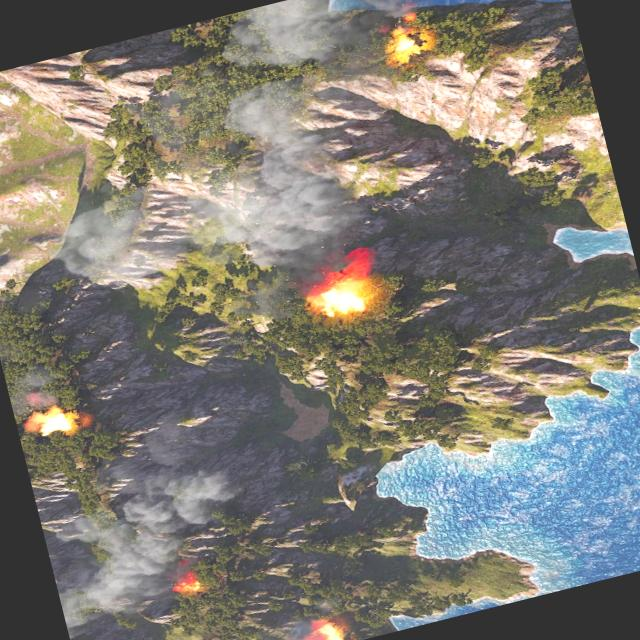fire: (316, 275, 375, 321), (27, 401, 76, 438), (382, 28, 424, 66), (172, 573, 212, 597), (314, 613, 348, 640)
smoke: (7, 0, 411, 357), (34, 452, 258, 629), (342, 0, 432, 48), (6, 362, 72, 413), (253, 612, 323, 640)
